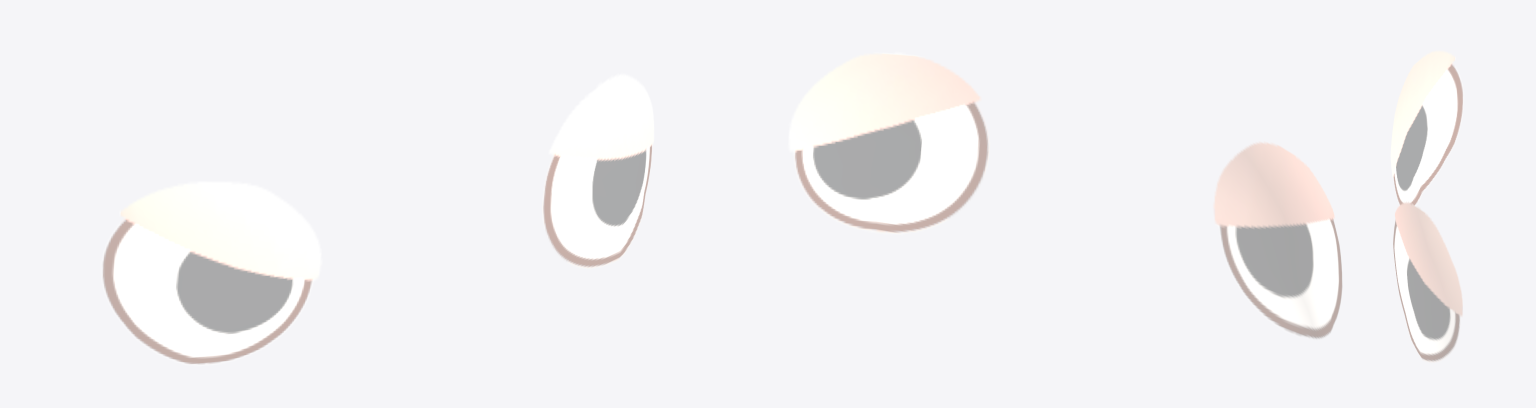
The model's file is eye_01.glb.
3 renders of one model, left to right at view 1: azimuth 30°, elevation 25°; view 2: azimuth 150°, elevation 25°; view 3: azimuth 270°, elevation 25°, orthographic. The views are drawn at different scales.
Parts seen in each view (by area): view 1: R_eye, L_eye; view 2: L_eye, R_eye; view 3: R_eye, L_eye.
Part boxes in pixels (x1,y1,x2,y2): R_eye: [101, 181, 322, 365]; L_eye: [542, 73, 654, 268]; L_eye: [788, 52, 989, 234]; R_eye: [1213, 141, 1342, 339]; R_eye: [1390, 50, 1463, 205]; L_eye: [1393, 201, 1462, 362].
Bounding box in the file's own units: 0.00677 × 0.00271 × 0.00151.
Materials: 1 (1 with a texture image).
